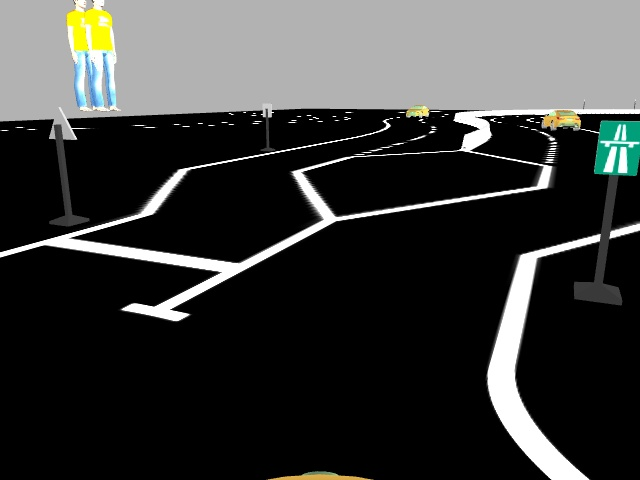HighwayEntrance: (591, 116, 639, 179)
